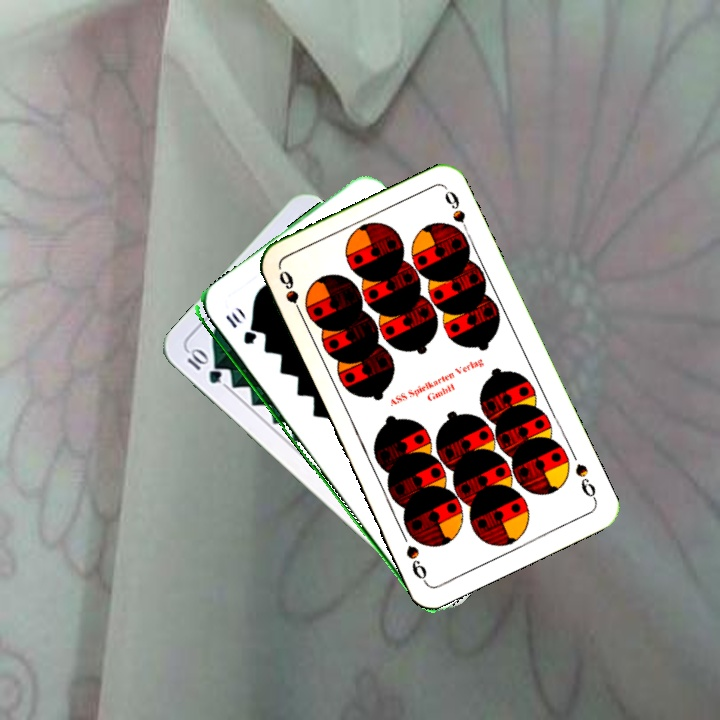G10: (183, 345, 225, 387), (221, 308, 257, 348)
S9: (275, 266, 307, 322), (571, 459, 600, 504)
